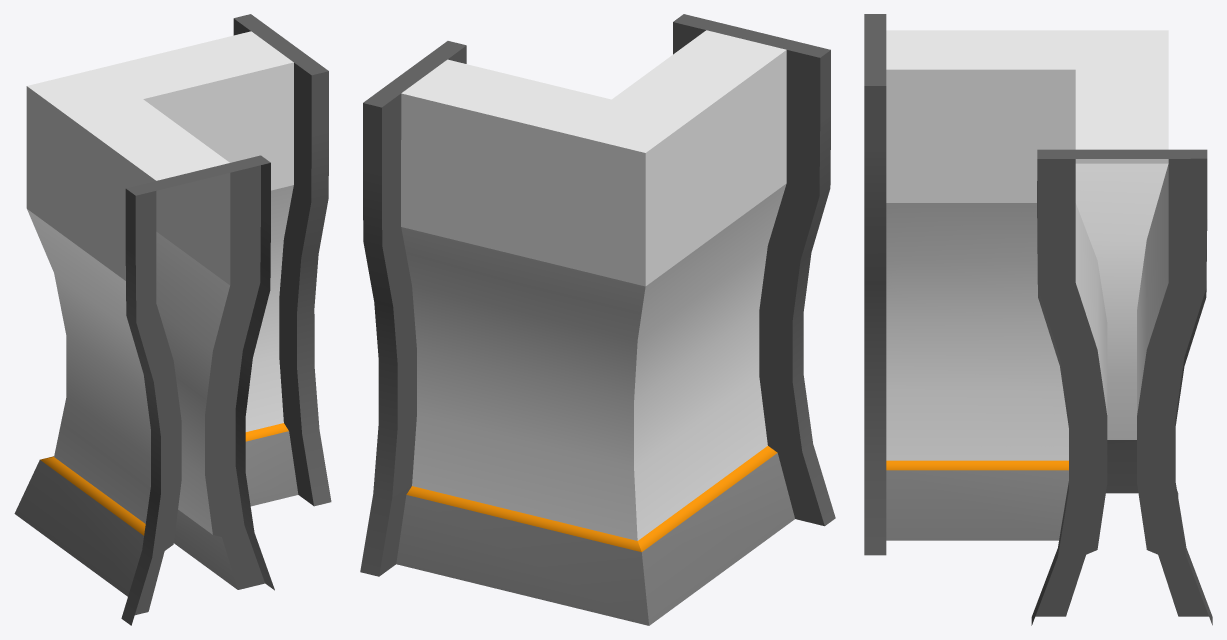
Rendered from SM_InteriorCornerWall 02.fbx.
3 views of the same model, side by side, from view 1: azimuth 30°, elevation 25°; view 2: azimuth 150°, elevation 25°; view 3: azimuth 270°, elevation 25° (orthographic). The views are drawn at different scales.
Visible parts, largest first — view 1: SM_InteriorCornerWall_04; view 2: SM_InteriorCornerWall_04; view 3: SM_InteriorCornerWall_04.
Boxes of the visible parts, left/top/right/bottom form: SM_InteriorCornerWall_04: left=14, top=14, right=331, bottom=625; SM_InteriorCornerWall_04: left=360, top=14, right=835, bottom=625; SM_InteriorCornerWall_04: left=864, top=14, right=1212, bottom=625.
Size of the model in its own units: 135 by 200 by 135.
1 material, 1 textured.
